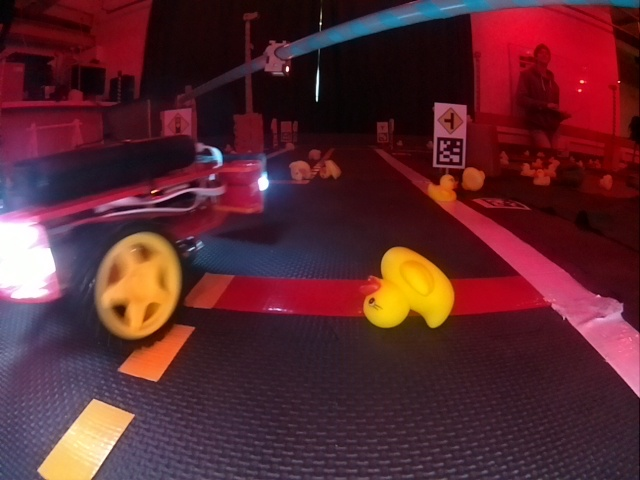Duckie: (362, 251, 456, 329), (428, 174, 457, 201), (320, 160, 341, 178), (289, 161, 308, 180)
Duckiebot: (1, 140, 260, 343)
Intersection sign: (436, 106, 464, 134)
QR code: (436, 136, 462, 165), (475, 198, 527, 208)
Signal sign: (167, 113, 189, 136)
